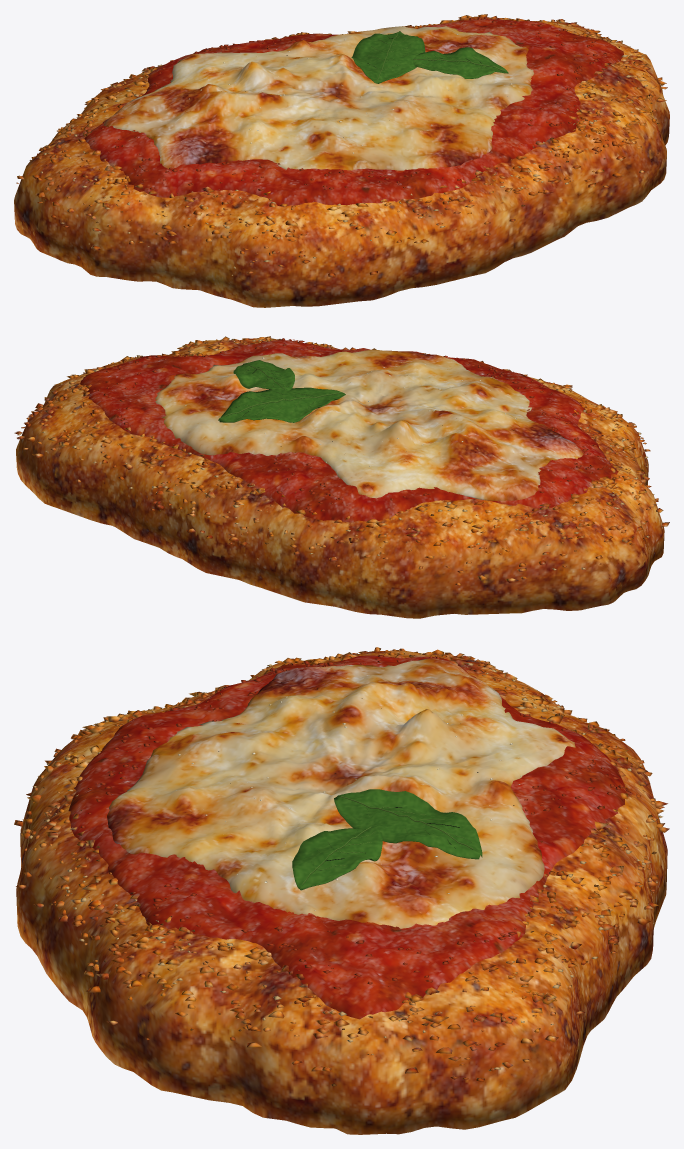
The model's file is chicken_parmesan.glb.
3 renders of one model, top to bottom at view 1: azimuth 30°, elevation 25°; view 2: azimuth 150°, elevation 25°; view 3: azimuth 270°, elevation 25°, orthographic. The views are drawn at different scales.
Parts seen in each view (by area): view 1: chicken_parmesan_v2; view 2: chicken_parmesan_v2; view 3: chicken_parmesan_v2.
Part boxes in pixels (x1,y1,x2,y2): chicken_parmesan_v2: (14,14,669,307); chicken_parmesan_v2: (14,336,669,618); chicken_parmesan_v2: (14,647,669,1134).
Bounding box in the file's own units: 0.0979 × 0.0189 × 0.066.
Materials: 1 (1 with a texture image).
